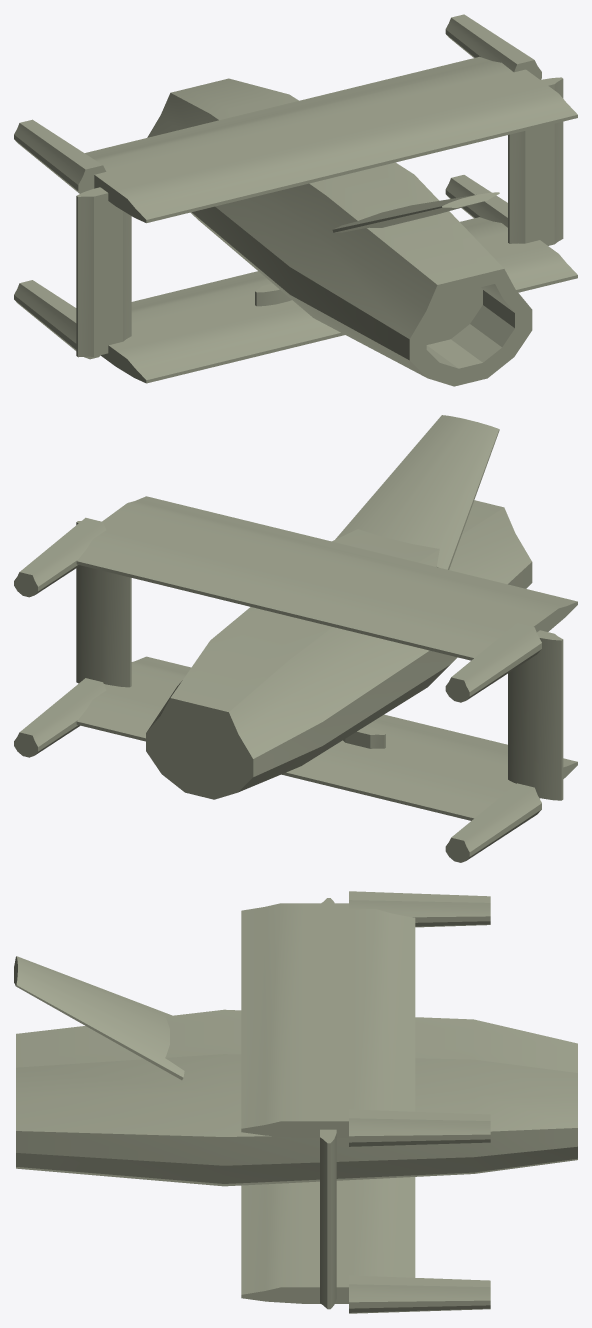
The model's file is vos_stack.glb.
3 views of the same model, one above another, from view 1: azimuth 30°, elevation 25°; view 2: azimuth 150°, elevation 25°; view 3: azimuth 270°, elevation 25° (orthographic). The views are drawn at different scales.
Parts seen in each view (by area): view 1: hull; view 2: hull; view 3: hull.
Boxes of the visible parts, left/top/right/bottom form: hull: left=14, top=14, right=577, bottom=386; hull: left=14, top=415, right=577, bottom=862; hull: left=14, top=891, right=577, bottom=1313.
Size of the model in its own units: 13.94 by 6.21 by 13.55.
